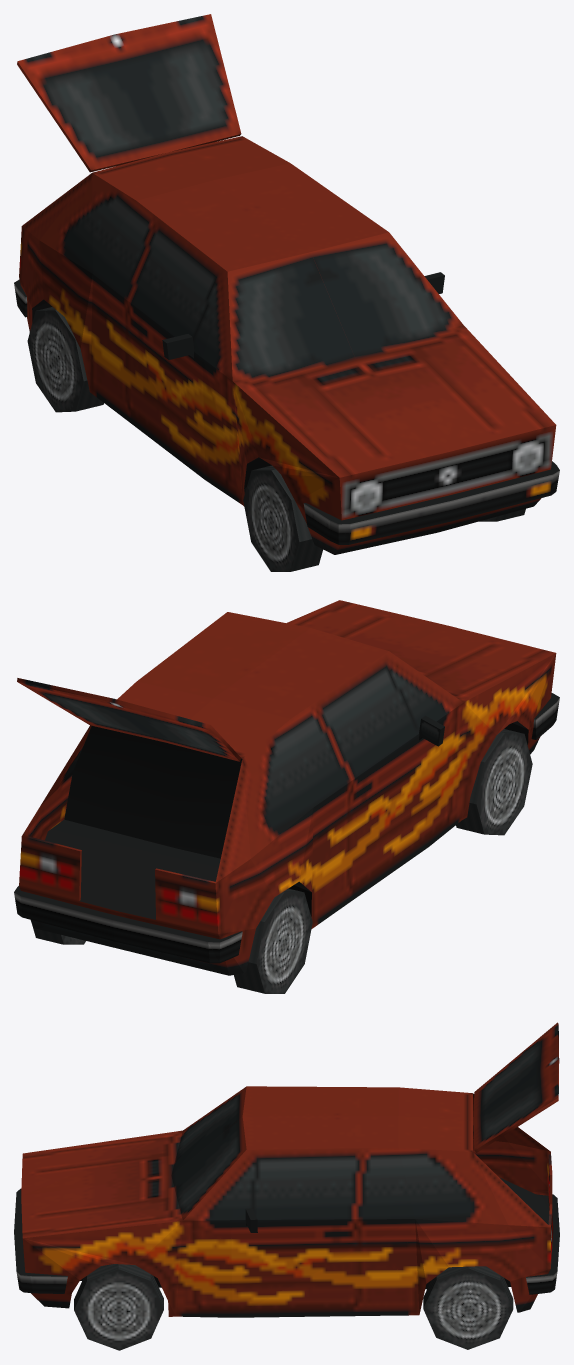
Rendered from Car3_001.fbx.
The picture shows the model from 3 angles, top to bottom: view 1: azimuth 30°, elevation 25°; view 2: azimuth 150°, elevation 25°; view 3: azimuth 270°, elevation 25°; orthographic projection. The views are drawn at different scales.
Parts seen in each view (by area): view 1: Car3.001; view 2: Car3.001; view 3: Car3.001.
Part boxes in pixels (bbox=[...]): Car3.001: bbox=[14, 14, 559, 571]; Car3.001: bbox=[14, 600, 559, 993]; Car3.001: bbox=[14, 1022, 559, 1350].
Bounding box in the file's own units: 2.65 × 2.81 × 5.61.
